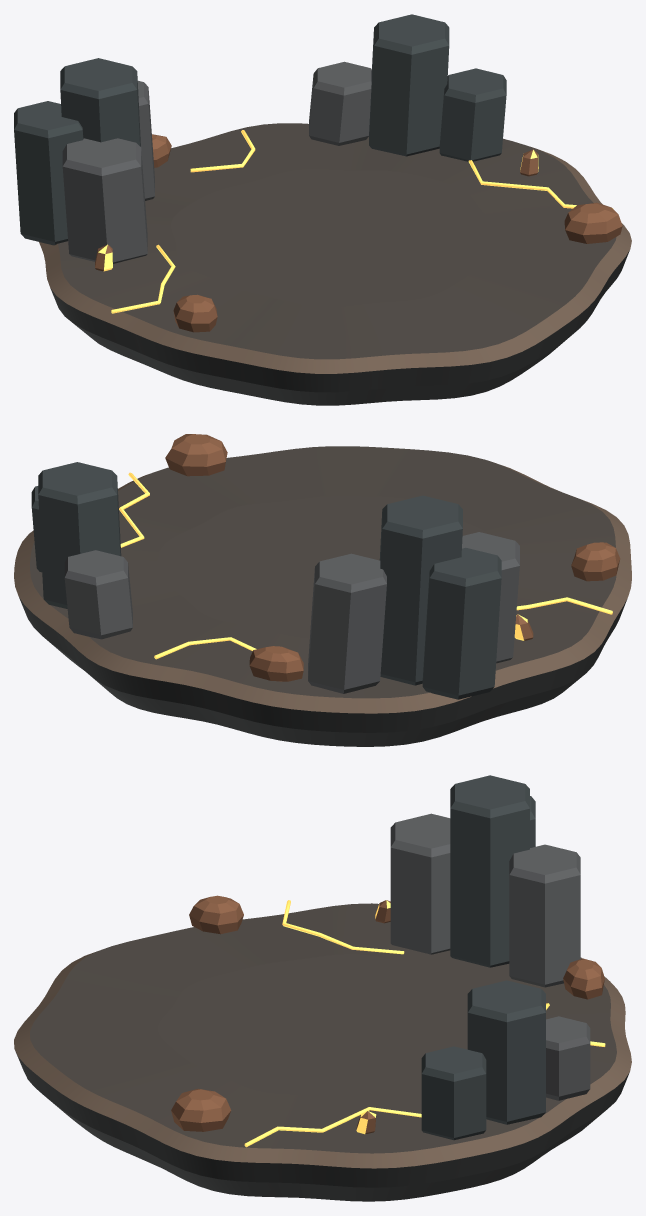
File: caldera.glb
The picture shows the model from 3 angles, top to bottom: view 1: azimuth 30°, elevation 25°; view 2: azimuth 150°, elevation 25°; view 3: azimuth 270°, elevation 25°; orthographic projection. The views are drawn at different scales.
Visible parts, largest first — view 1: Habitat_caldera_caldera_top.001, Habitat_caldera_caldera_pillars.001, Habitat_caldera_caldera_basalt.001, Habitat_caldera_caldera_pillar_faces.001, Habitat_caldera_caldera_weathered_edge.001, Habitat_caldera_caldera_scorched_rock.001, Habitat_caldera_caldera_ember.001; view 2: Habitat_caldera_caldera_top.001, Habitat_caldera_caldera_pillars.001, Habitat_caldera_caldera_pillar_faces.001, Habitat_caldera_caldera_basalt.001, Habitat_caldera_caldera_weathered_edge.001, Habitat_caldera_caldera_scorched_rock.001, Habitat_caldera_caldera_ember.001; view 3: Habitat_caldera_caldera_top.001, Habitat_caldera_caldera_pillars.001, Habitat_caldera_caldera_pillar_faces.001, Habitat_caldera_caldera_basalt.001, Habitat_caldera_caldera_weathered_edge.001, Habitat_caldera_caldera_scorched_rock.001, Habitat_caldera_caldera_ember.001.
Boxes of the visible parts, <box> form: Habitat_caldera_caldera_top.001: <box>57,123,616,359</box>; Habitat_caldera_caldera_pillars.001: <box>14,14,506,245</box>; Habitat_caldera_caldera_basalt.001: <box>50,250,629,405</box>; Habitat_caldera_caldera_pillar_faces.001: <box>62,61,371,263</box>; Habitat_caldera_caldera_weathered_edge.001: <box>39,146,631,373</box>; Habitat_caldera_caldera_scorched_rock.001: <box>95,134,622,332</box>; Habitat_caldera_caldera_ember.001: <box>98,130,612,313</box>; Habitat_caldera_caldera_top.001: <box>30,446,616,698</box>; Habitat_caldera_caldera_pillars.001: <box>31,462,501,699</box>; Habitat_caldera_caldera_pillar_faces.001: <box>64,532,519,693</box>; Habitat_caldera_caldera_basalt.001: <box>19,597,627,746</box>; Habitat_caldera_caldera_weathered_edge.001: <box>14,462,631,713</box>; Habitat_caldera_caldera_scorched_rock.001: <box>165,434,620,681</box>; Habitat_caldera_caldera_ember.001: <box>119,472,612,659</box>; Habitat_caldera_caldera_top.001: <box>30,903,616,1153</box>; Habitat_caldera_caldera_pillars.001: <box>421,775,545,1140</box>; Habitat_caldera_caldera_pillar_faces.001: <box>390,813,590,1100</box>; Habitat_caldera_caldera_basalt.001: <box>15,1051,629,1201</box>; Habitat_caldera_caldera_weathered_edge.001: <box>14,951,631,1168</box>; Habitat_caldera_caldera_scorched_rock.001: <box>171,895,604,1134</box>; Habitat_caldera_caldera_ember.001: <box>244,900,605,1147</box>.
Bounding box in the file's own units: 6.35 × 2.41 × 6.3.
